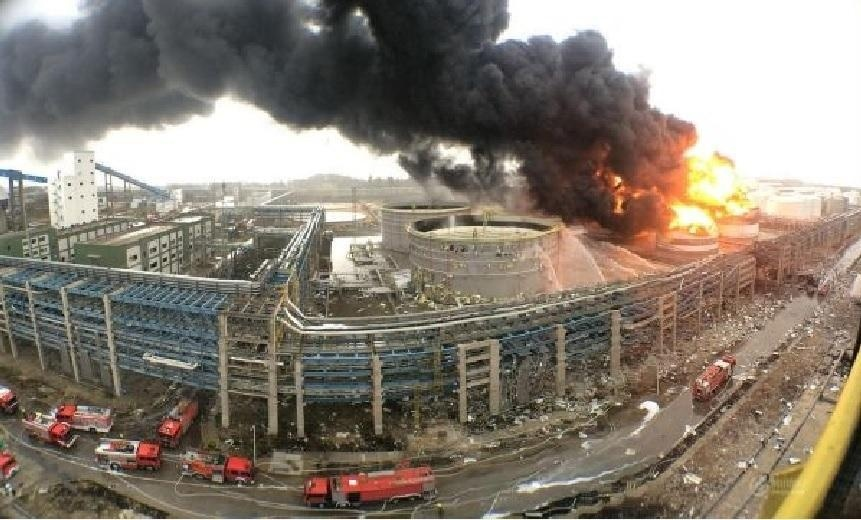fire: (667, 147, 745, 234)
